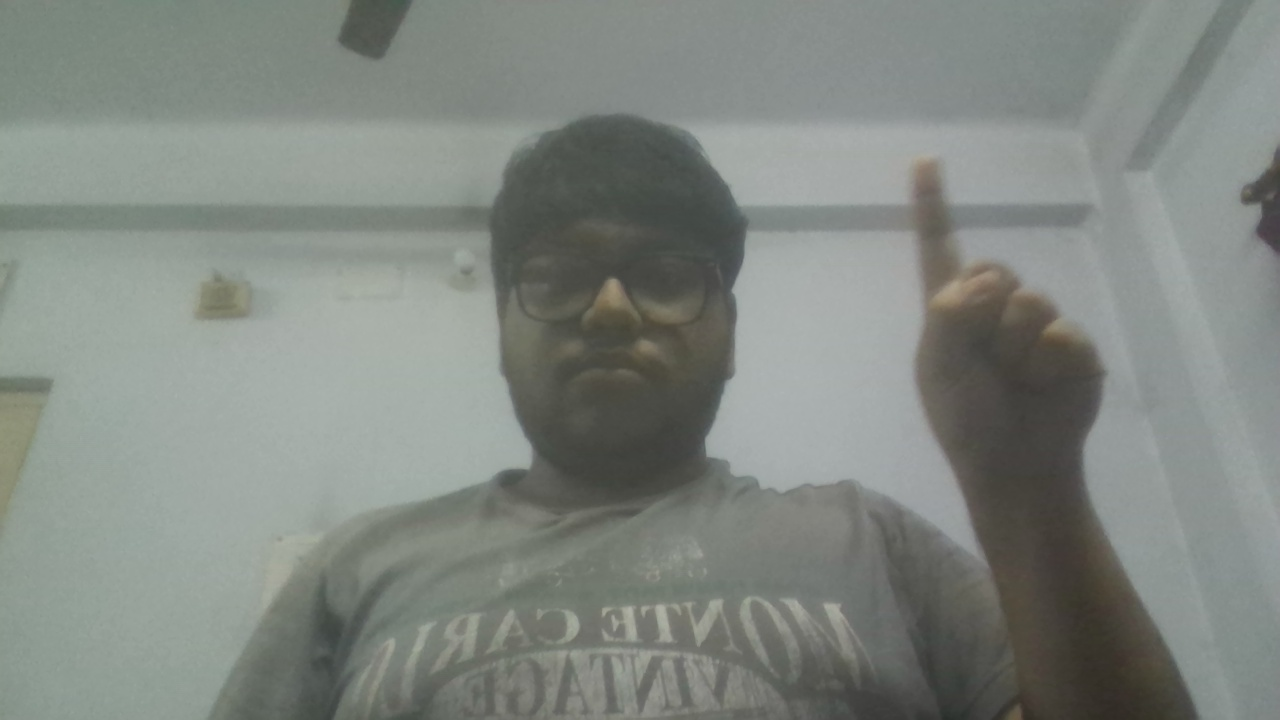Gesture1: (902, 147, 1120, 507)
